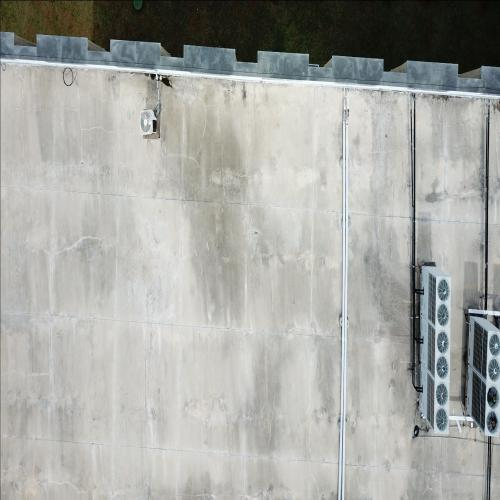conde: (416, 263, 454, 331), (465, 315, 500, 385), (416, 383, 453, 441), (466, 385, 500, 443), (416, 331, 454, 382), (139, 109, 159, 137)
